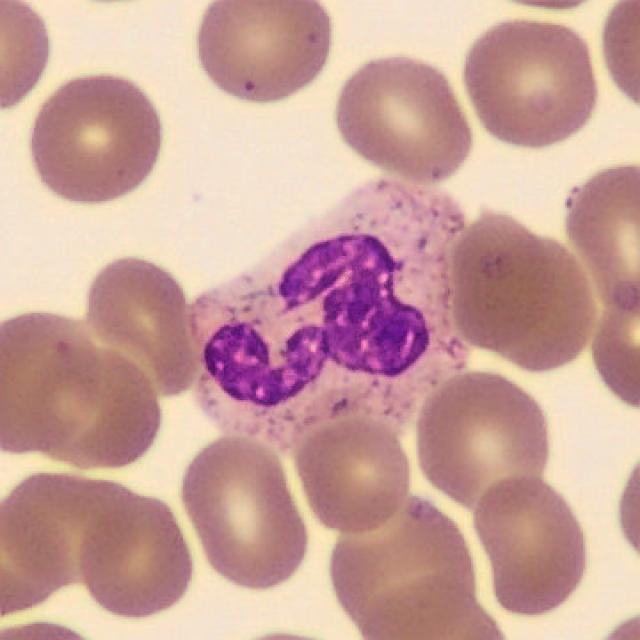Neutrofilo segmentado: (187, 180, 469, 452)
